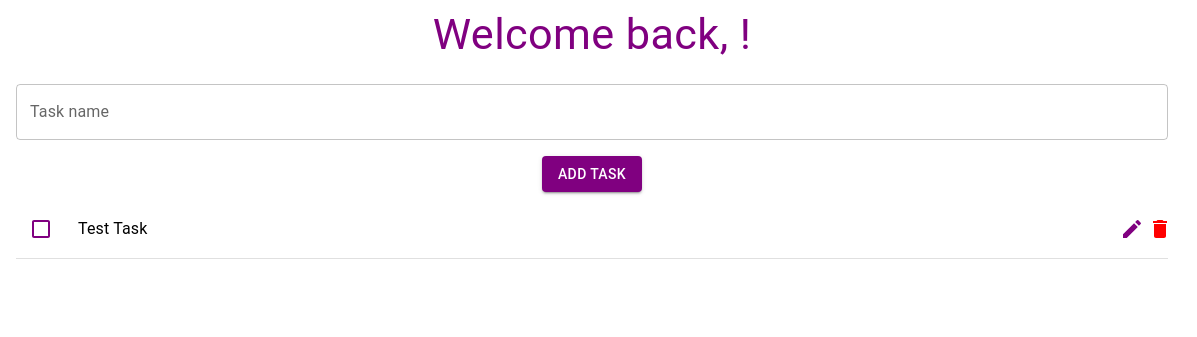
Test case: ItemsList Component › should remove a task
Click the button named "delete": [1160, 229] box [1140,209,1180,249]
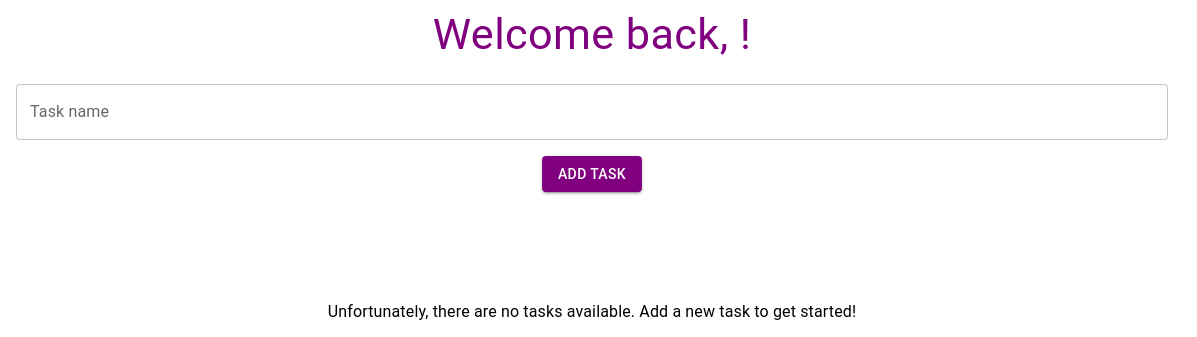
Now the text "Test Task" is gone
